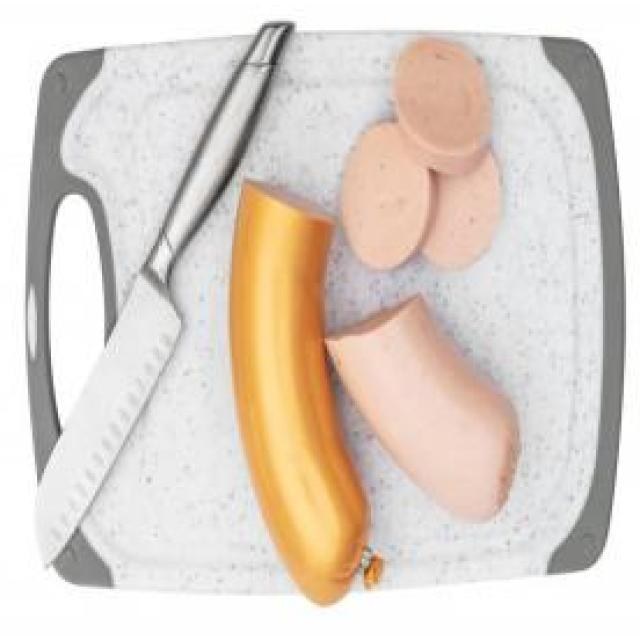knife: (31, 15, 292, 580)
